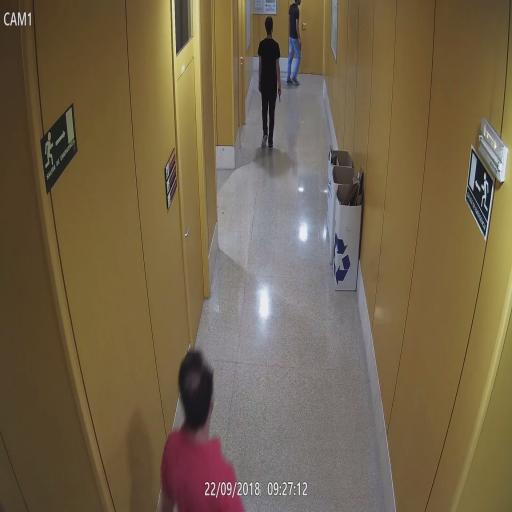Handgun: (276, 86, 283, 102), (296, 39, 304, 51)
